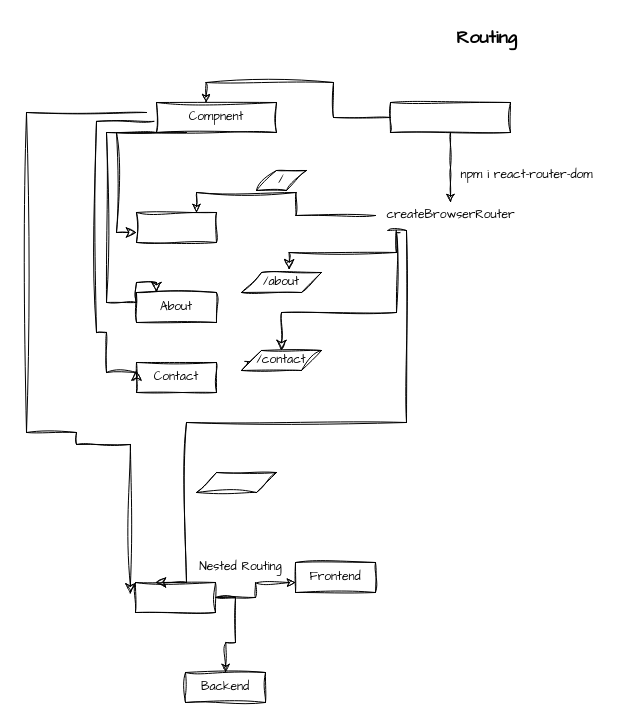
This 624x720 diagram has some shape labels left out. The box of each missing label's shape, as (x1, y1, x2, y2) in pixels:
/project: (196, 472, 276, 492)
App.js: (390, 102, 510, 132)
Home: (136, 212, 216, 242)
Project: (134, 582, 216, 612)
